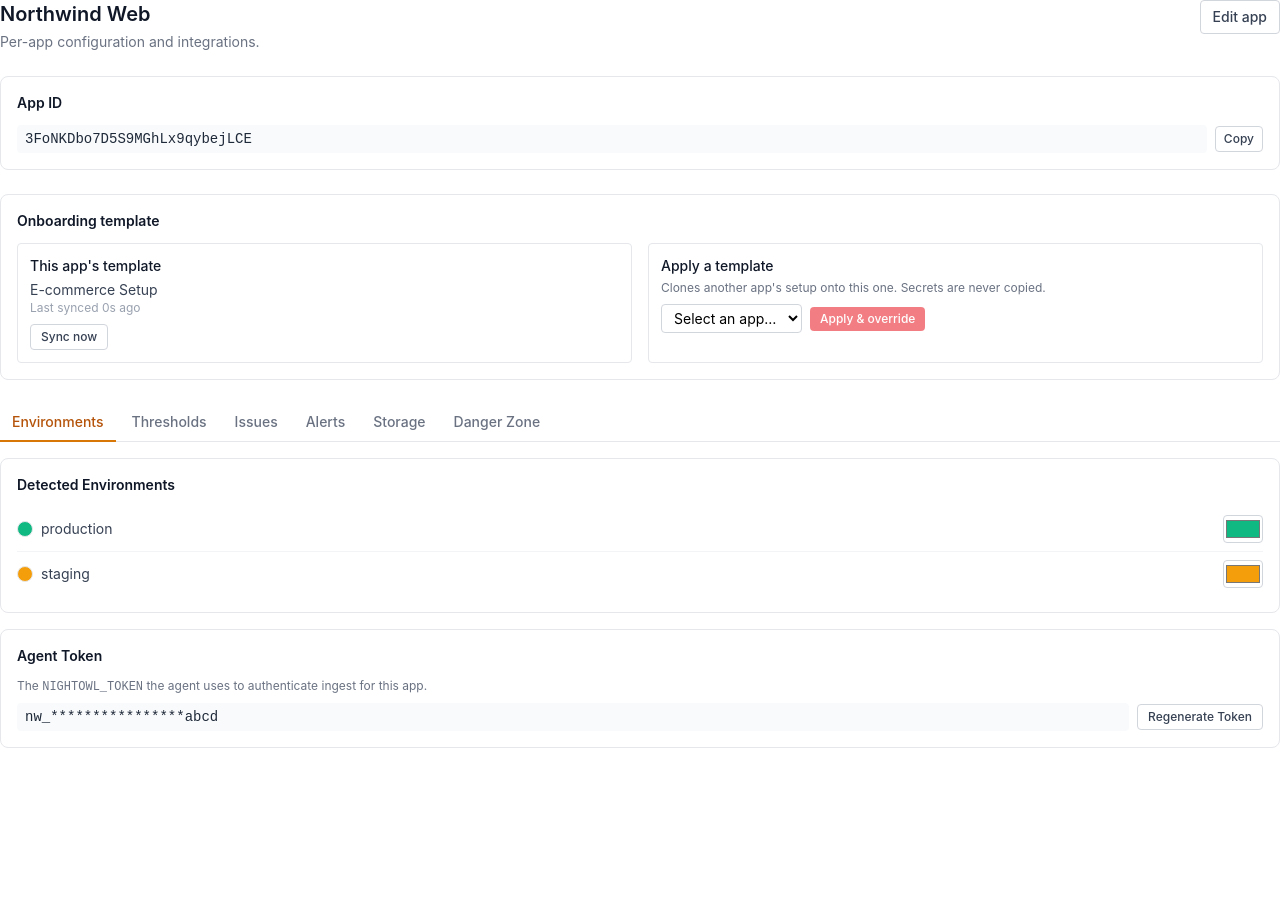
Test: SettingsPage › "Edit app" opens the shared app modal prefilled, and saves via PUT /api/apps/{id}
The width and height of the screenshot is (1280, 900).
Click the button "Edit app". click: click(1240, 17)
box: x1=1200 y1=0 x2=1279 y2=34
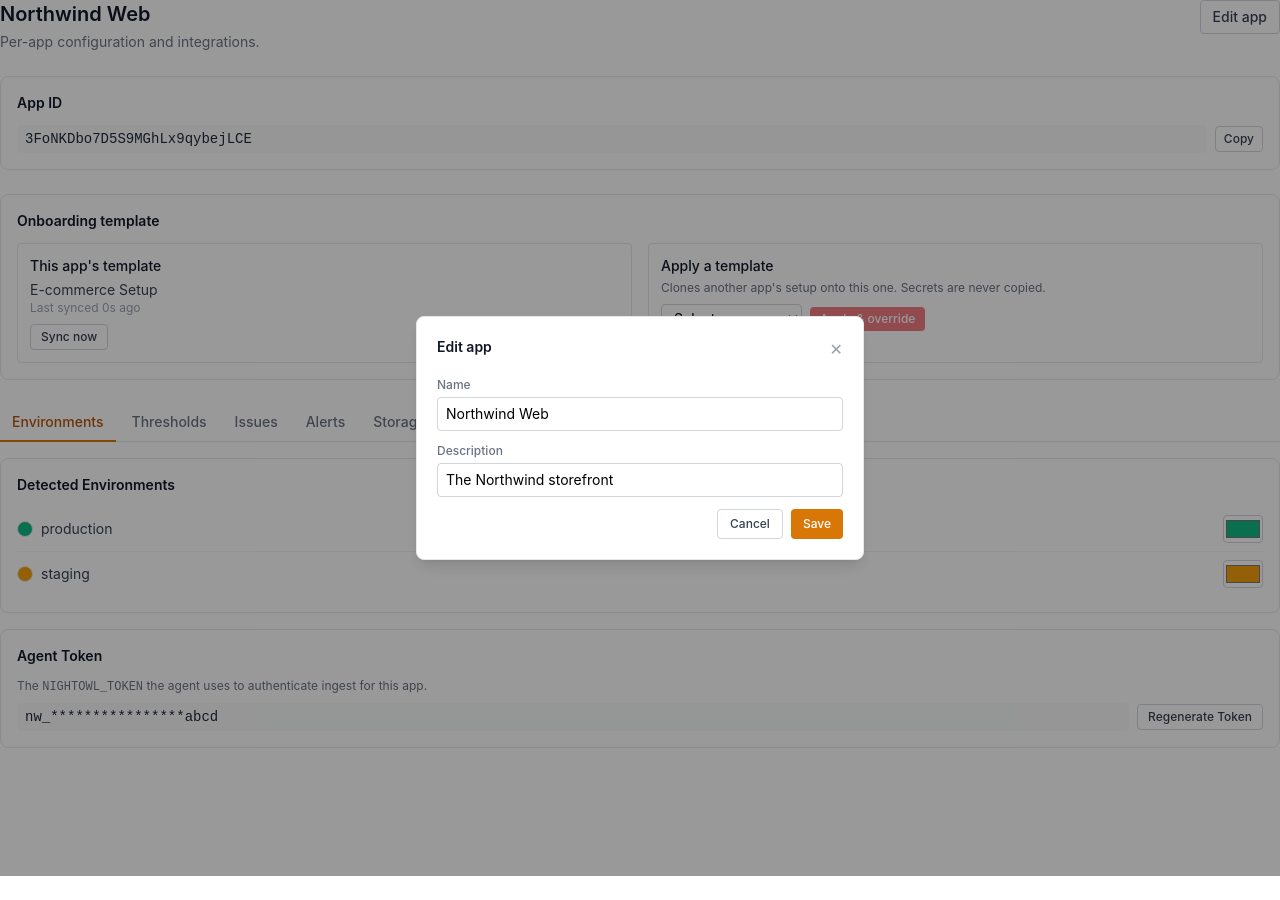
Expected: the dialog is shown, x1=416 y1=316 x2=864 y2=560
Expected: the dialog shows "Edit app", x1=437 y1=338 x2=492 y2=355
Expected: the field with test id "app-modal-name" holds "Northwind Web"
Replace the text in the field with test id "app-modal-name" with "Northwind Renamed". click: (640, 414)
box: x1=437 y1=397 x2=843 y2=431
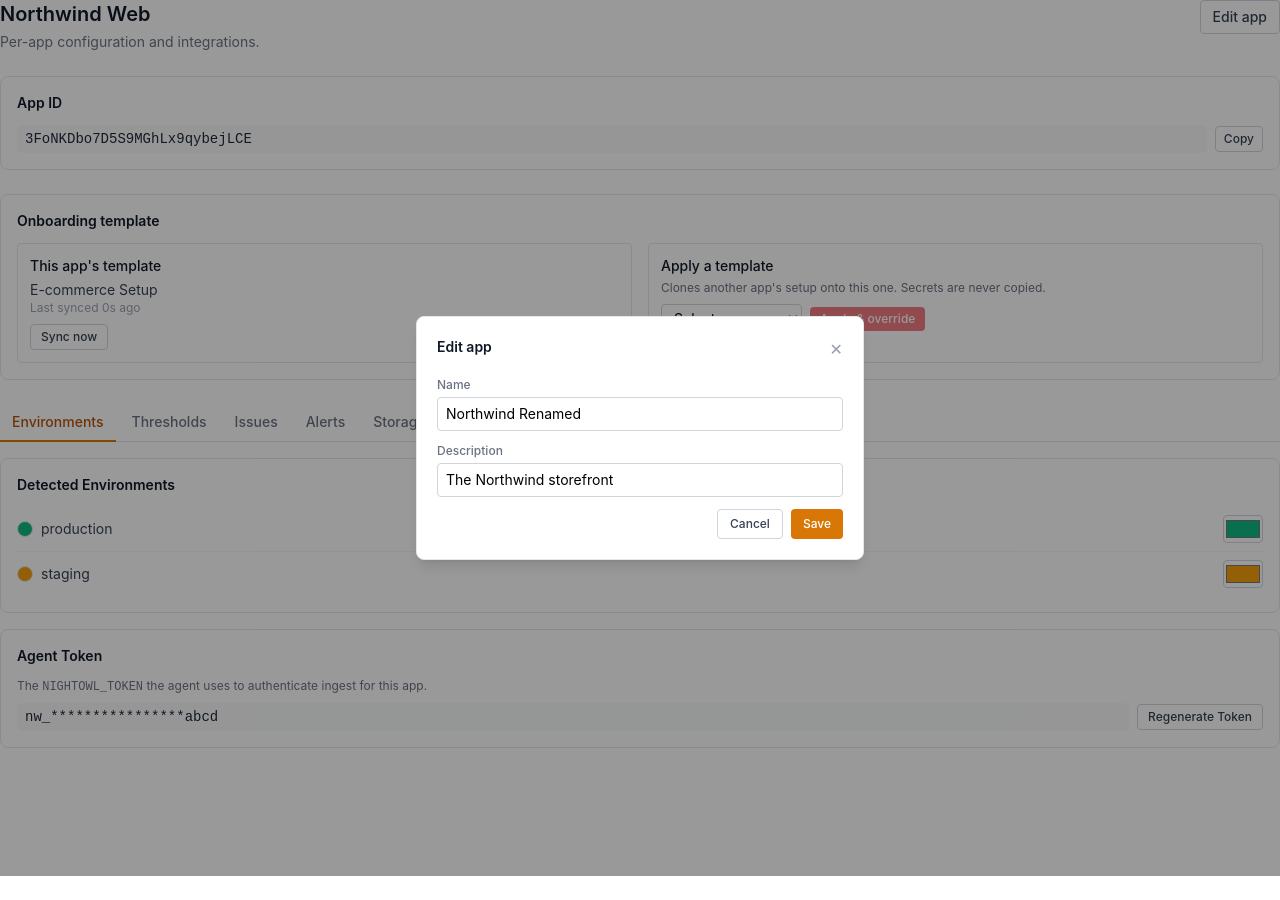
Click the button with test id "app-modal-submit". click: click(817, 524)
box: x1=791 y1=509 x2=843 y2=539
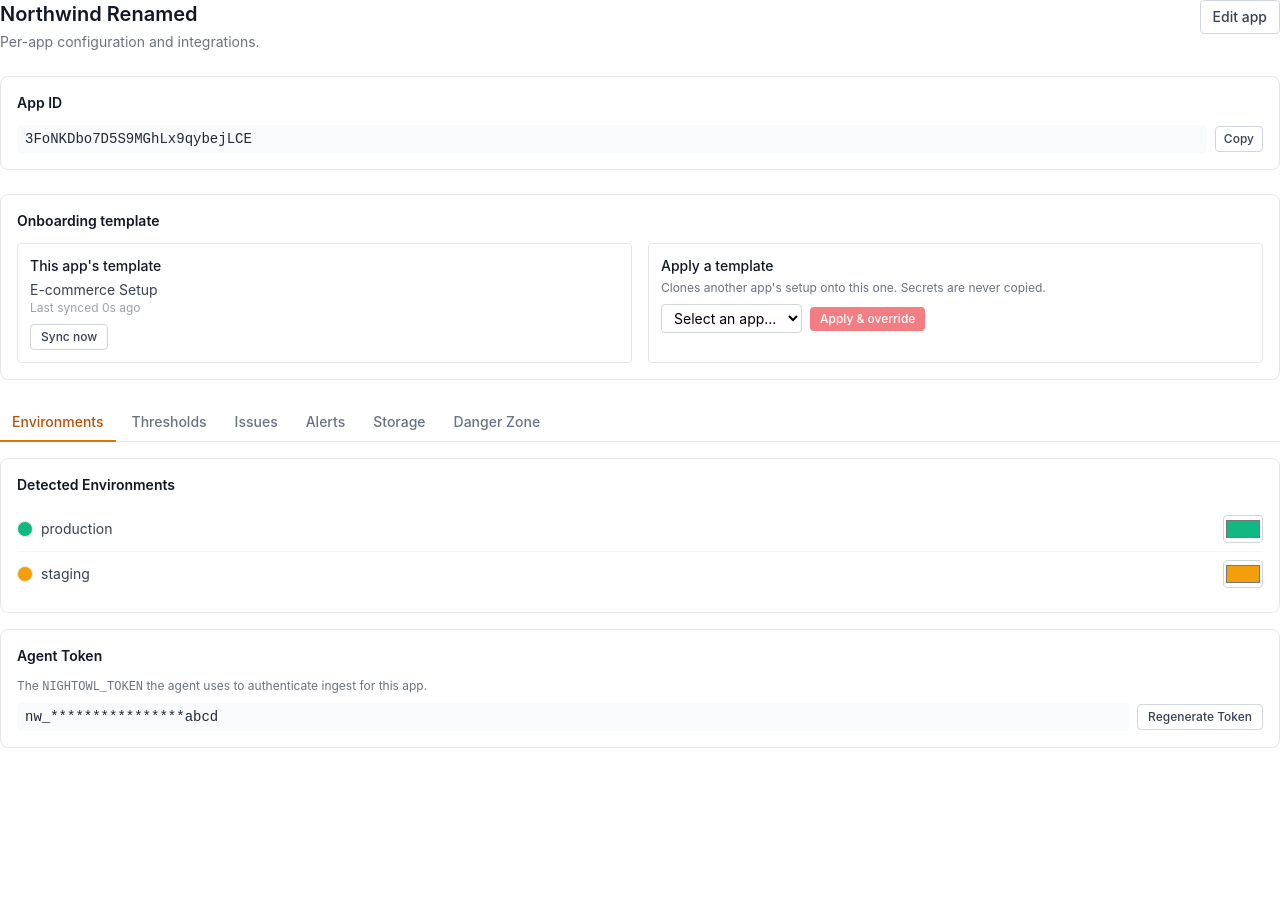
Expected: the text "Northwind Renamed" is shown, x1=0 y1=2 x2=198 y2=26
